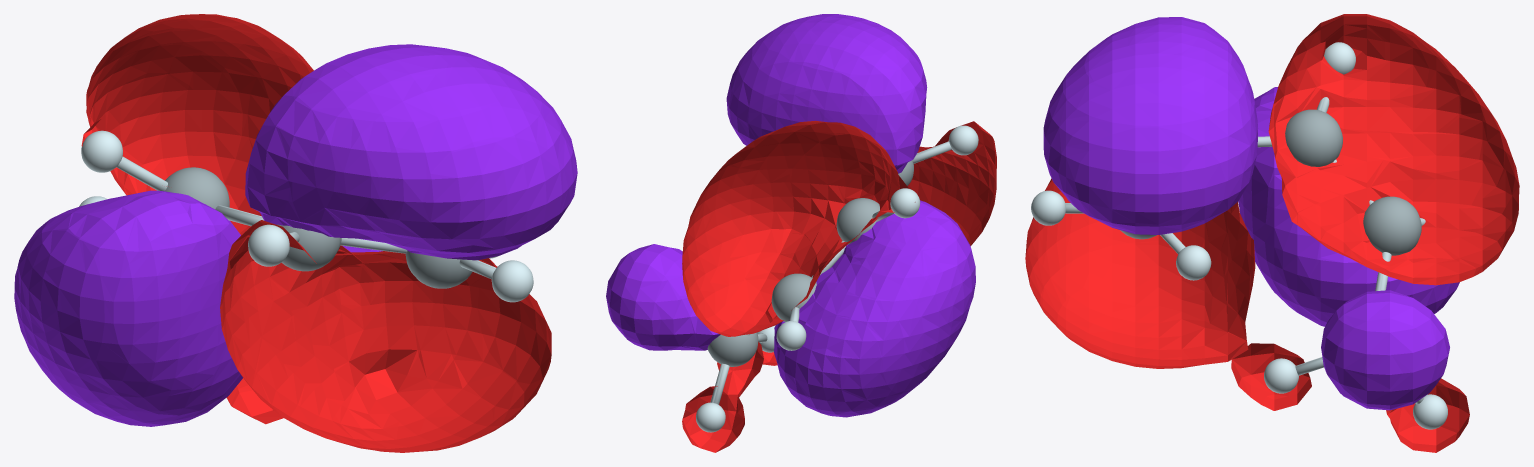
3 renders of one model, left to right at view 1: azimuth 30°, elevation 25°; view 2: azimuth 150°, elevation 25°; view 3: azimuth 270°, elevation 25°, orthographic. The views are drawn at different scales.
Visible parts, largest first — view 1: Renderer Node; view 2: Renderer Node; view 3: Renderer Node.
Part boxes in pixels (x1,y1,x2,y2): Renderer Node: [14, 14, 577, 452]; Renderer Node: [606, 14, 996, 452]; Renderer Node: [1025, 14, 1519, 452].
Size of the model in its own units: 4.98 by 5.06 by 5.6.
